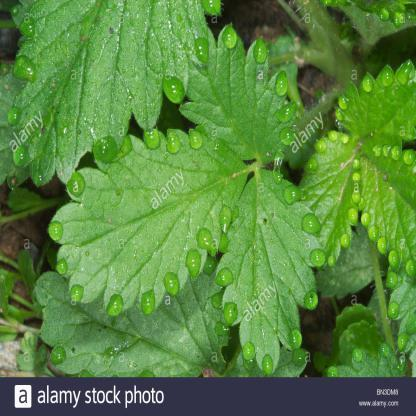Strawberry leaf: (45, 125, 246, 320), (214, 162, 326, 369), (174, 24, 298, 170), (296, 127, 363, 280), (352, 138, 416, 284), (334, 60, 416, 154)
